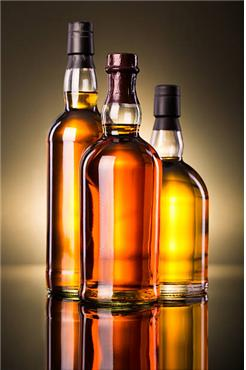alcohol: (81, 53, 161, 319), (49, 18, 105, 370), (147, 86, 210, 368)
